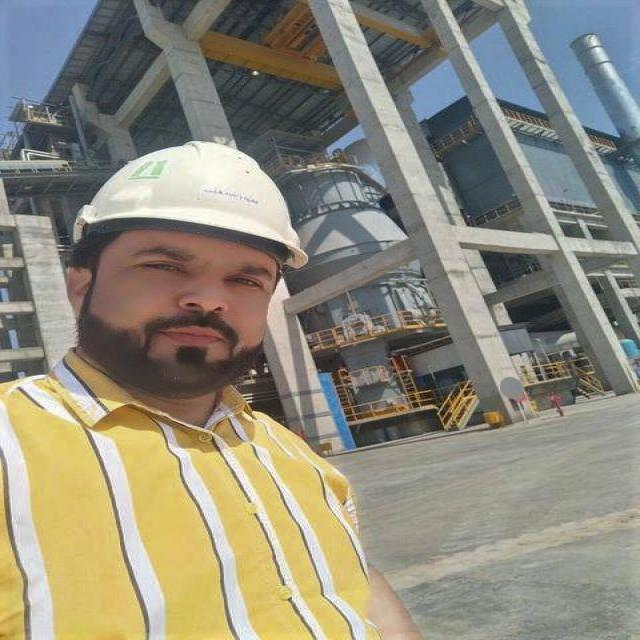hat: (73, 141, 306, 267)
